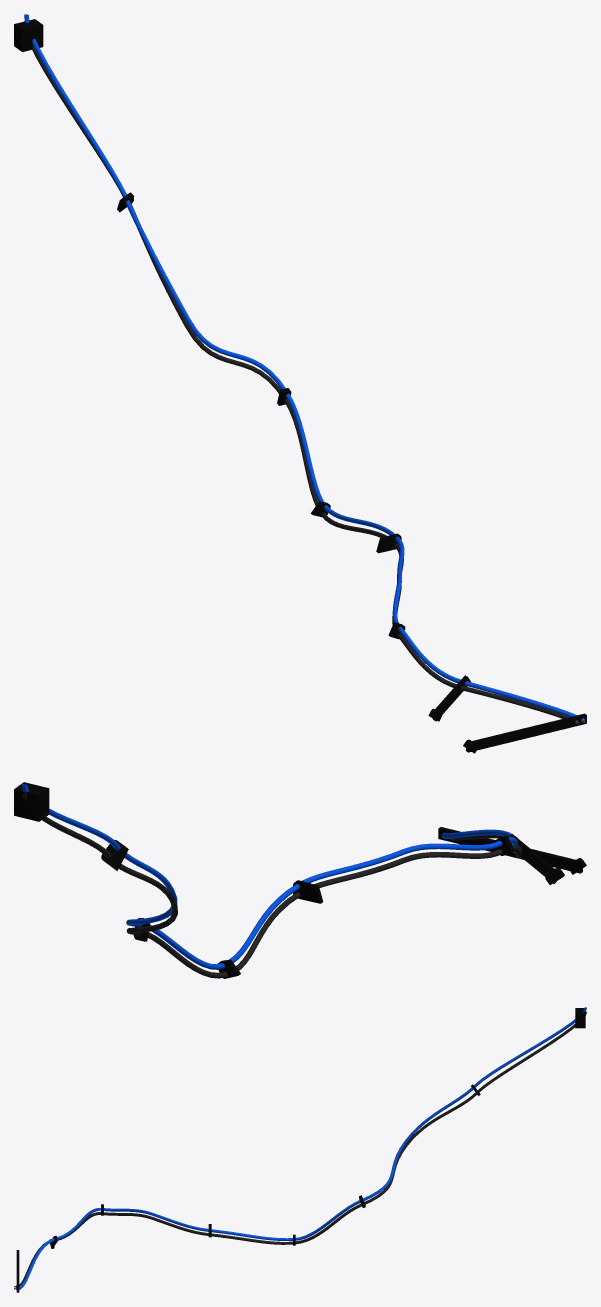
File: manguera_pared1.fbx
The picture shows the model from 3 angles, top to bottom: view 1: azimuth 30°, elevation 25°; view 2: azimuth 150°, elevation 25°; view 3: azimuth 270°, elevation 25°; orthographic projection. The views are drawn at different scales.
Parts seen in each view (by area): view 1: BézierCurve, BézierCurve.001, Cube.026; view 2: BézierCurve, BézierCurve.001, Cube.023, Cube.026, Cube.034, Cube.021, Cube.022; view 3: BézierCurve, BézierCurve.001.
Part boxes in pixels (x1,y1,x2,y2): BézierCurve: (24, 14, 576, 716); BézierCurve.001: (24, 21, 569, 718); Cube.026: (466, 713, 586, 752); BézierCurve: (21, 784, 518, 969); BézierCurve.001: (22, 793, 521, 978); Cube.023: (14, 782, 49, 821); Cube.026: (438, 827, 582, 873); Cube.034: (509, 834, 560, 883); Cube.021: (293, 880, 323, 903); Cube.022: (101, 840, 128, 870); BézierCurve: (19, 1007, 586, 1289); BézierCurve.001: (19, 1011, 586, 1286).
Size of the model in its own units: 127 by 376 by 768.
